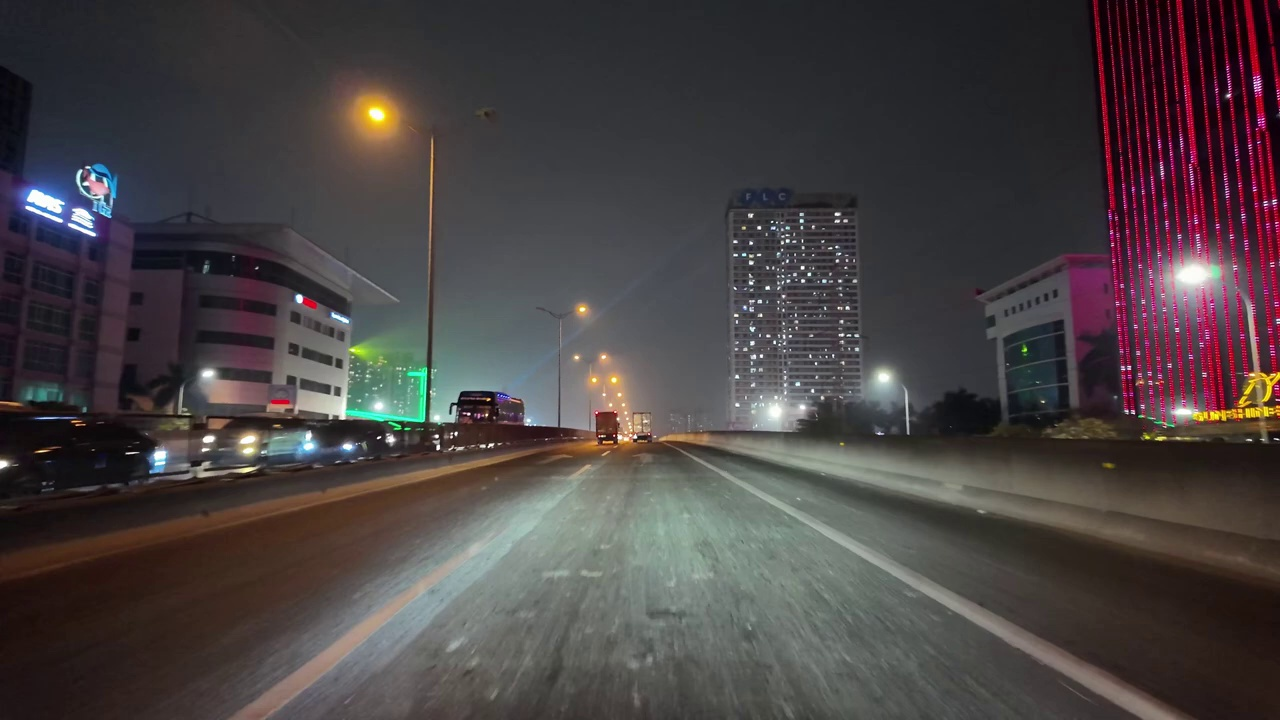acesa: (355, 96, 396, 137), (1173, 256, 1216, 294), (869, 365, 899, 391), (572, 299, 595, 322)
